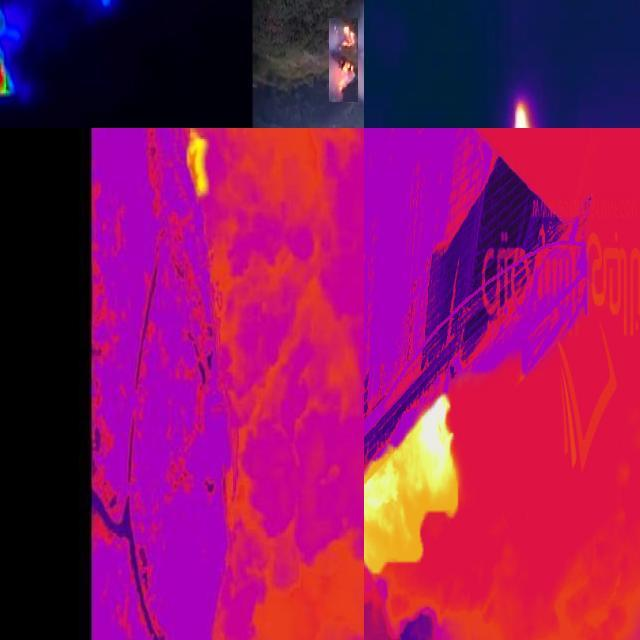fire: (365, 392, 464, 578), (180, 129, 223, 204), (330, 19, 359, 103), (1, 1, 12, 107), (512, 103, 537, 129)
